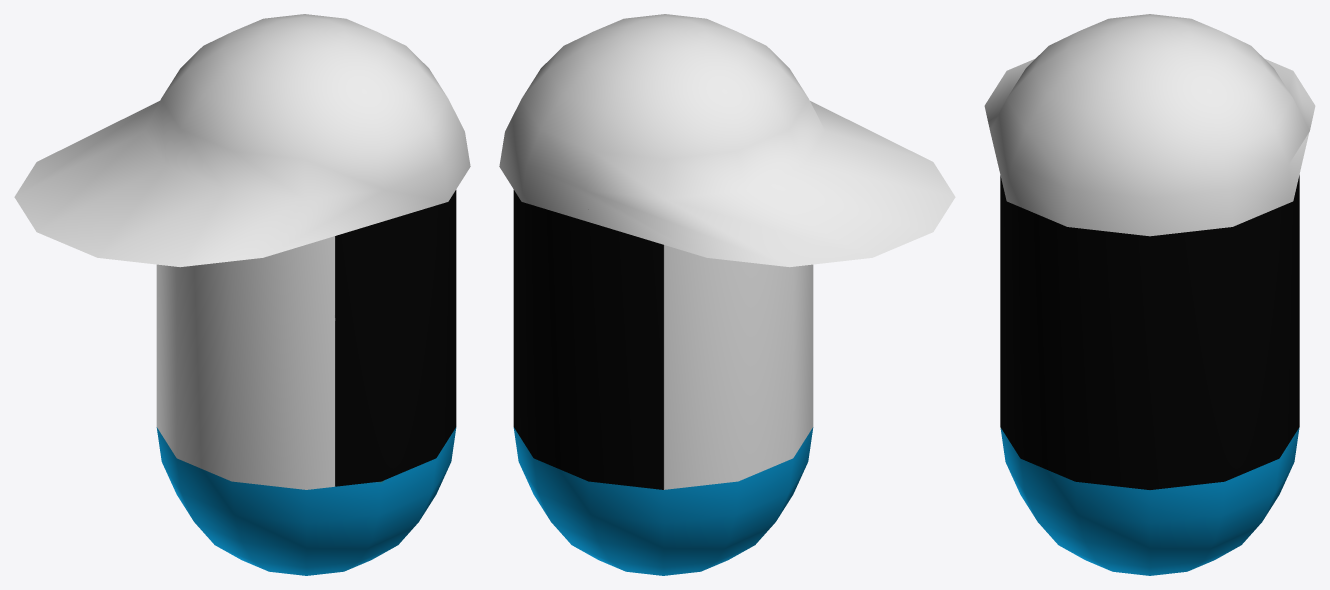
The model's file is BasicEnemy.FBX.
The picture shows the model from 3 angles, left to right: view 1: azimuth 30°, elevation 25°; view 2: azimuth 150°, elevation 25°; view 3: azimuth 270°, elevation 25°; orthographic projection.
Parts seen in each view (by area): view 1: Capsule001, Capsule002; view 2: Capsule001, Capsule002; view 3: Capsule001, Capsule002.
Boxes of the visible parts, <box> form: Capsule001: <box>156,190,456,575</box>; Capsule002: <box>14,14,470,267</box>; Capsule001: <box>513,190,813,575</box>; Capsule002: <box>499,14,955,267</box>; Capsule001: <box>1000,175,1299,575</box>; Capsule002: <box>984,14,1315,236</box>.
Size of the model in its own units: 9.51 by 11.75 by 6.64.
